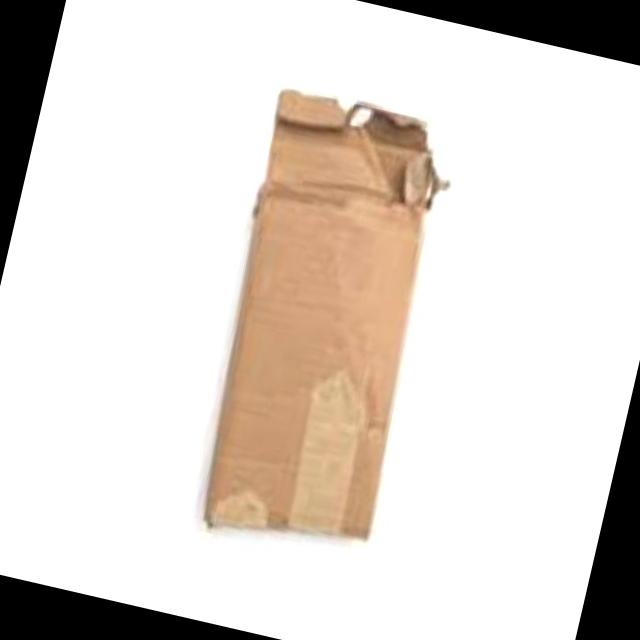box: (202, 84, 454, 547)
crushed: (259, 90, 342, 227)
tear: (348, 95, 450, 226)
